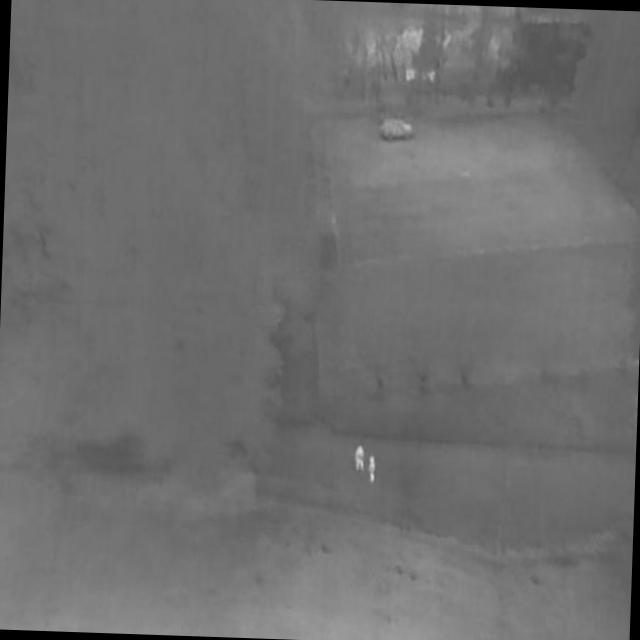person: (353, 445, 367, 473), (366, 455, 379, 485)
